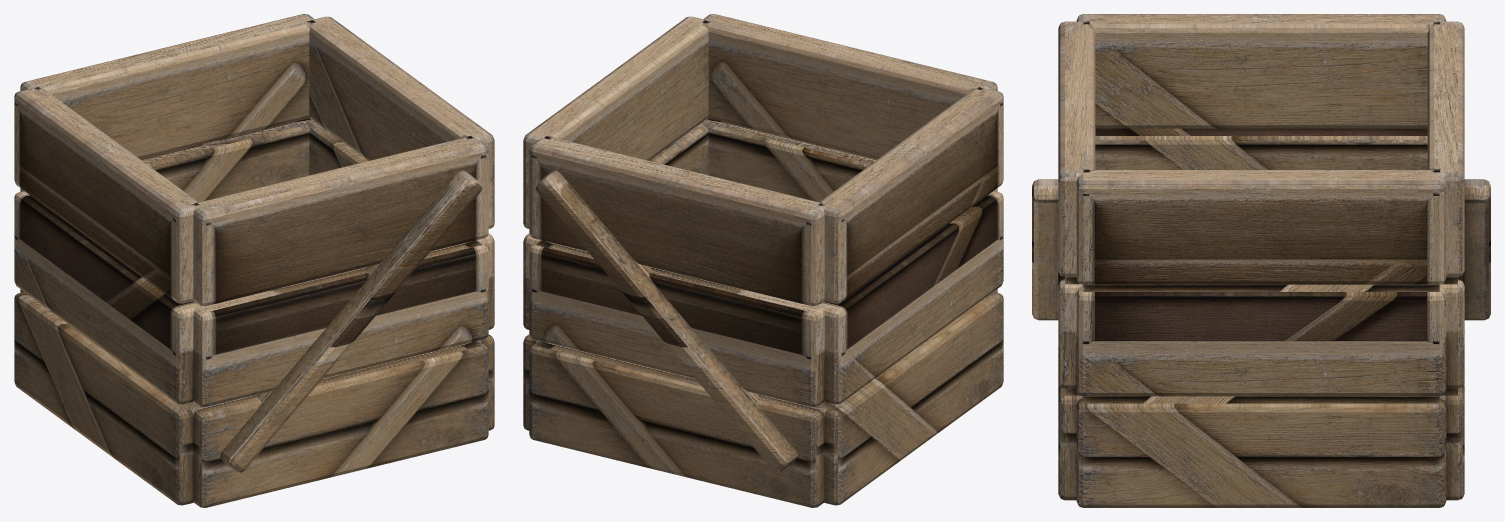
Rendered from kit_open_crate.glb.
The picture shows the model from 3 angles, left to right: view 1: azimuth 30°, elevation 25°; view 2: azimuth 150°, elevation 25°; view 3: azimuth 270°, elevation 25°; orthographic projection. The views are drawn at different scales.
Parts seen in each view (by area): view 1: Open crate side plank.004, Open crate side plank, Open crate side plank.002, Open crate side plank.005, Open crate end plank.004, Open crate end plank.002, Open crate end plank, Open crate end plank.005, Open crate diagonal, Open crate side plank.003, Open crate end plank.003, Open crate end plank.001; view 2: Open crate side plank.005, Open crate side plank.001, Open crate side plank.003, Open crate side plank.004, Open crate end plank.004, Open crate end plank.002, Open crate end plank, Open crate end plank.005, Open crate diagonal.001, Open crate side plank.002, Open crate end plank.003, Open crate end plank.001; view 3: Open crate end plank.005, Open crate end plank.003, Open crate end plank.001, Open crate end plank.004, Open crate end plank.002, Open crate side plank.004, Open crate side plank.005, Open crate diagonal, Open crate diagonal.001, Open crate side plank, Open crate side plank.001, Open crate side plank.002 (+1 smaller).
Part boxes in pixels (<box>): Open crate side plank.004: <box>193,137,488,306</box>; Open crate side plank: <box>193,341,488,507</box>; Open crate side plank.002: <box>193,240,488,406</box>; Open crate side plank.005: <box>20,14,315,159</box>; Open crate end plank.004: <box>14,88,198,303</box>; Open crate end plank.002: <box>14,191,199,404</box>; Open crate end plank: <box>14,292,198,505</box>; Open crate end plank.005: <box>309,16,494,228</box>; Open crate diagonal: <box>220,170,482,472</box>; Open crate side plank.003: <box>20,118,315,202</box>; Open crate end plank.003: <box>309,121,494,329</box>; Open crate end plank.001: <box>478,334,494,430</box>; Open crate side plank.005: <box>529,137,824,306</box>; Open crate side plank.001: <box>529,341,824,507</box>; Open crate side plank.003: <box>529,240,824,406</box>; Open crate side plank.004: <box>703,14,997,159</box>; Open crate end plank.004: <box>818,88,1003,303</box>; Open crate end plank.002: <box>818,191,1003,404</box>; Open crate end plank: <box>818,292,1003,505</box>; Open crate end plank.005: <box>523,16,708,228</box>; Open crate diagonal.001: <box>535,170,797,472</box>; Open crate side plank.002: <box>702,118,997,202</box>; Open crate end plank.003: <box>523,121,708,329</box>; Open crate end plank.001: <box>523,334,539,430</box>; Open crate end plank.005: <box>1076,170,1446,284</box>; Open crate end plank.003: <box>1076,284,1446,396</box>; Open crate end plank.001: <box>1076,396,1446,507</box>; Open crate end plank.004: <box>1076,14,1446,128</box>; Open crate end plank.002: <box>1095,128,1427,169</box>; Open crate side plank.004: <box>1058,21,1095,276</box>; Open crate side plank.005: <box>1427,21,1464,276</box>; Open crate diagonal: <box>1032,179,1058,320</box>; Open crate diagonal.001: <box>1464,179,1490,320</box>; Open crate side plank: <box>1058,383,1082,500</box>; Open crate side plank.001: <box>1440,383,1464,500</box>; Open crate side plank.002: <box>1058,271,1082,388</box>.
Size of the model in its own units: 0.495 by 0.44 by 0.559.
5 materials, 5 textured.
